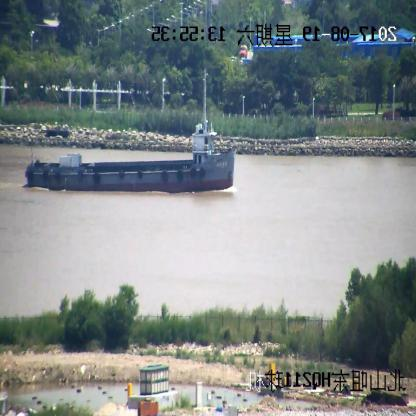Bulk Carrier: (26, 118, 236, 194)
